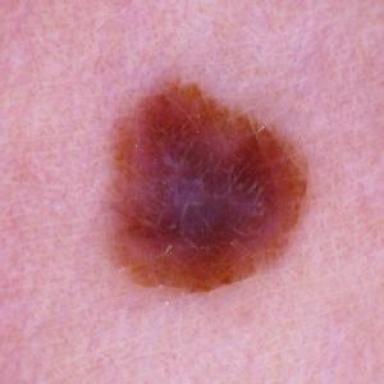Melanoma: (114, 83, 305, 291)
